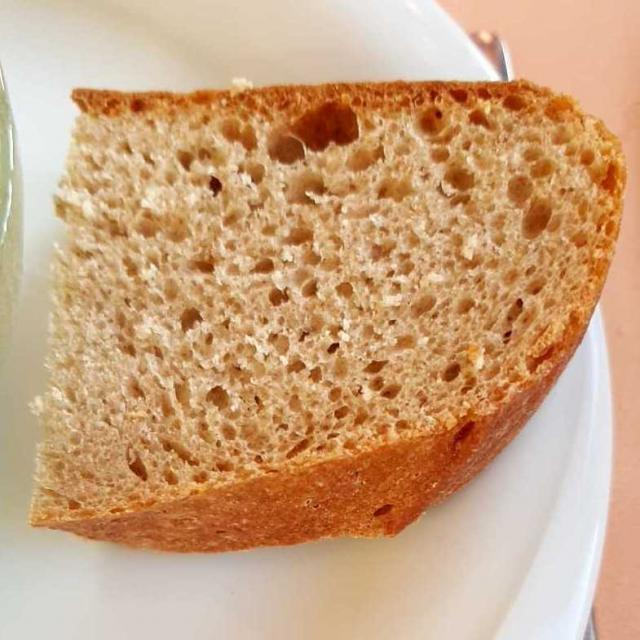bread: (41, 80, 619, 553)
